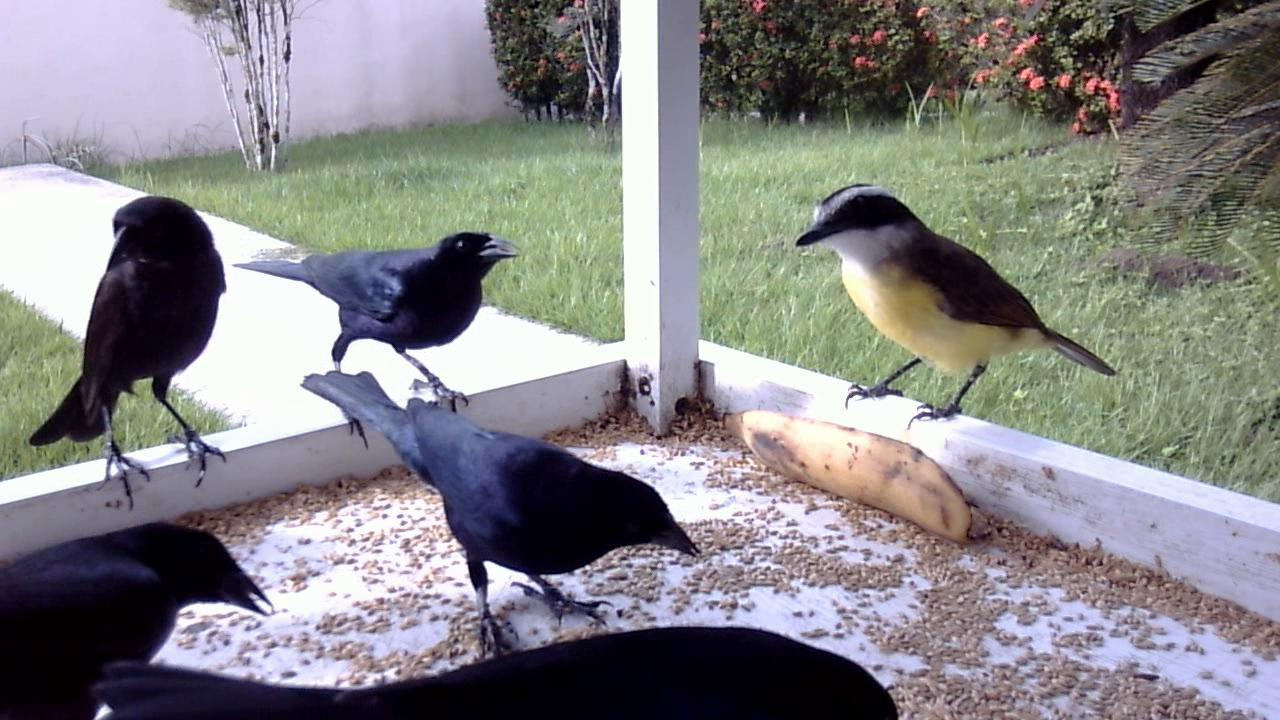bem_te_vi: (787, 181, 1122, 441)
chupim: (280, 357, 705, 667), (95, 585, 939, 720), (22, 187, 245, 515), (227, 224, 524, 422), (1, 518, 268, 720)
